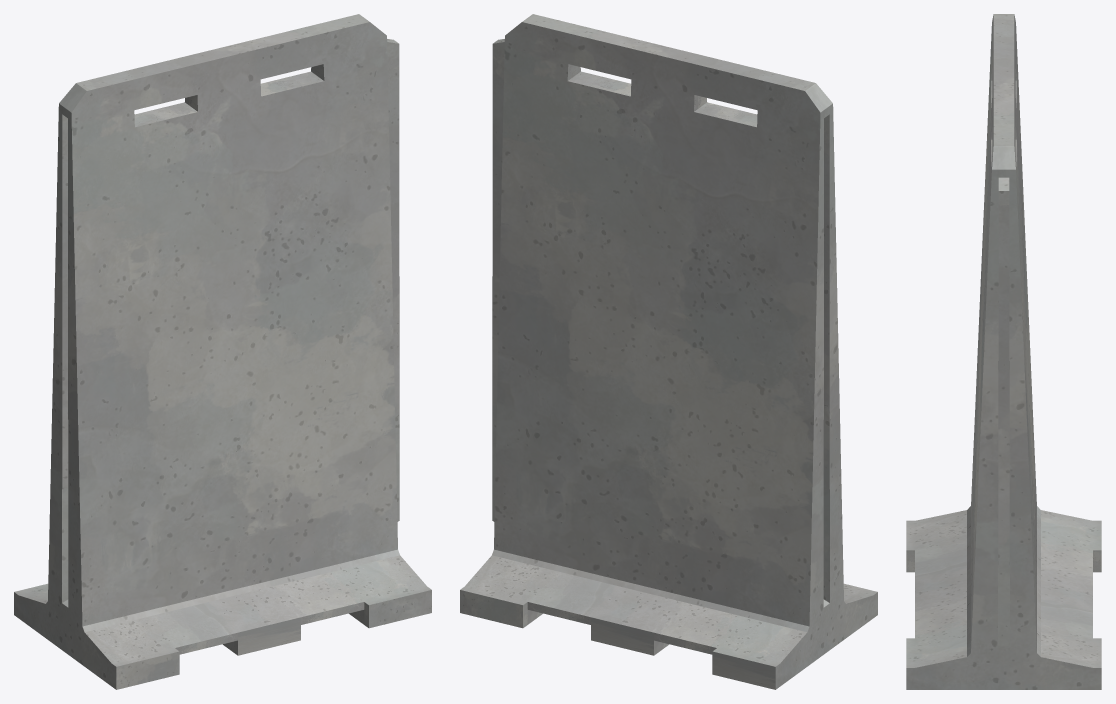
Rendered from TallBaricade.fbx.
The picture shows the model from 3 angles, left to right: view 1: azimuth 30°, elevation 25°; view 2: azimuth 150°, elevation 25°; view 3: azimuth 270°, elevation 25°; orthographic projection. The views are drawn at different scales.
Parts seen in each view (by area): view 1: TallBarricade_LOD0; view 2: TallBarricade_LOD0; view 3: TallBarricade_LOD0.
Part boxes in pixels (x1,y1,x2,y2): TallBarricade_LOD0: (14, 14, 431, 689); TallBarricade_LOD0: (460, 14, 877, 689); TallBarricade_LOD0: (906, 14, 1101, 689).
Size of what is drawn, in the model's own units: 2.1 by 3.4 by 1.12.
